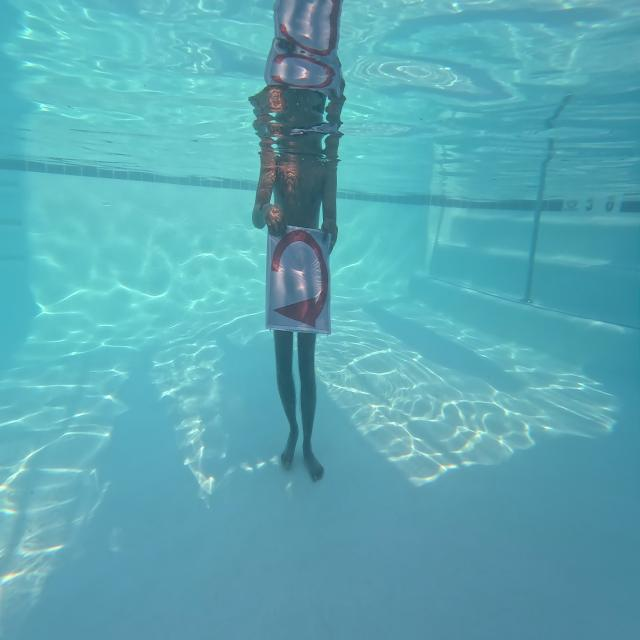red_side: (266, 216, 332, 338)
